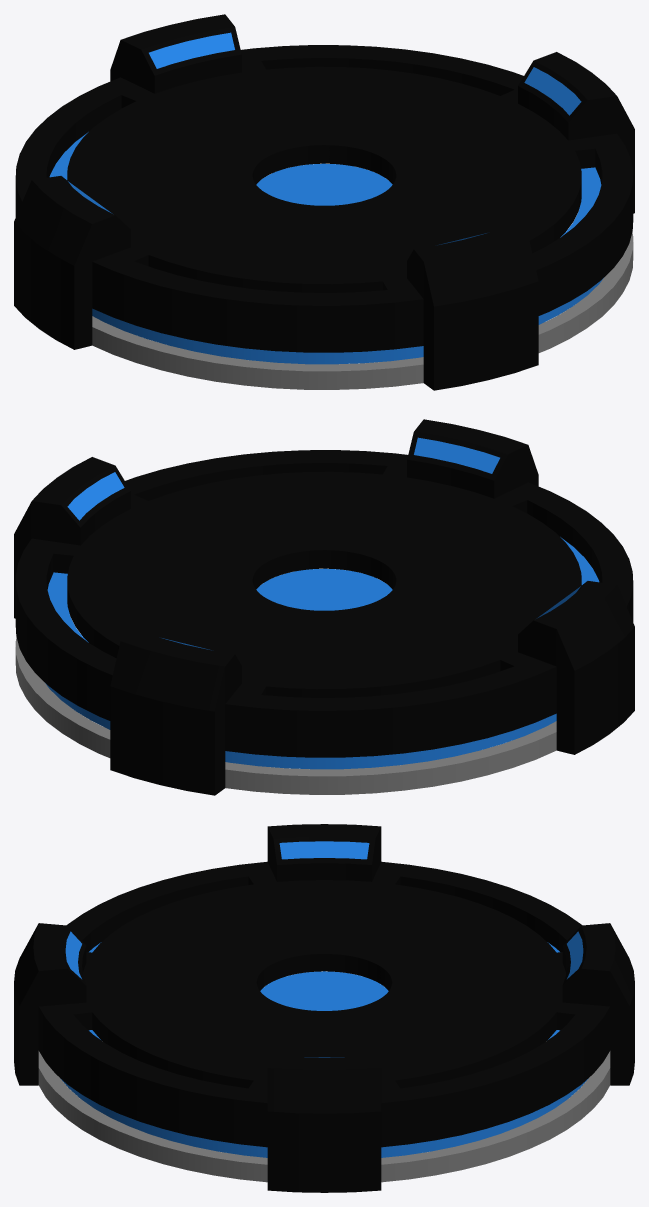
Rendered from hover_podium.glb.
3 renders of one model, top to bottom at view 1: azimuth 30°, elevation 25°; view 2: azimuth 150°, elevation 25°; view 3: azimuth 270°, elevation 25°, orthographic. The views are drawn at different scales.
Visible parts, largest first — view 1: Circle, Circle.004, Circle.003, Circle.001, Circle.005, Circle.002; view 2: Circle, Circle.004, Circle.003, Circle.001, Circle.005, Circle.002; view 3: Circle, Circle.004, Circle.003, Circle.001, Circle.005.
Part boxes in pixels (box(x1,y1,x2,y2)): Circle: box(14, 14, 634, 390); Circle.004: box(92, 232, 633, 389); Circle.003: box(92, 278, 603, 364); Circle.001: box(256, 163, 392, 205); Circle.005: box(68, 32, 581, 245); Circle.002: box(49, 132, 601, 237); Circle: box(14, 419, 634, 795); Circle.004: box(15, 637, 556, 794); Circle.003: box(45, 683, 556, 769); Circle.001: box(256, 568, 392, 610); Circle.005: box(67, 437, 580, 650); Circle.002: box(47, 537, 599, 642); Circle: box(14, 824, 634, 1192); Circle.004: box(38, 1051, 610, 1182); Circle.003: box(60, 1078, 588, 1157); Circle.001: box(260, 971, 388, 1010); Circle.005: box(65, 841, 583, 1057).
Size of the model in its own units: 3.2 by 0.6507 by 3.2.
